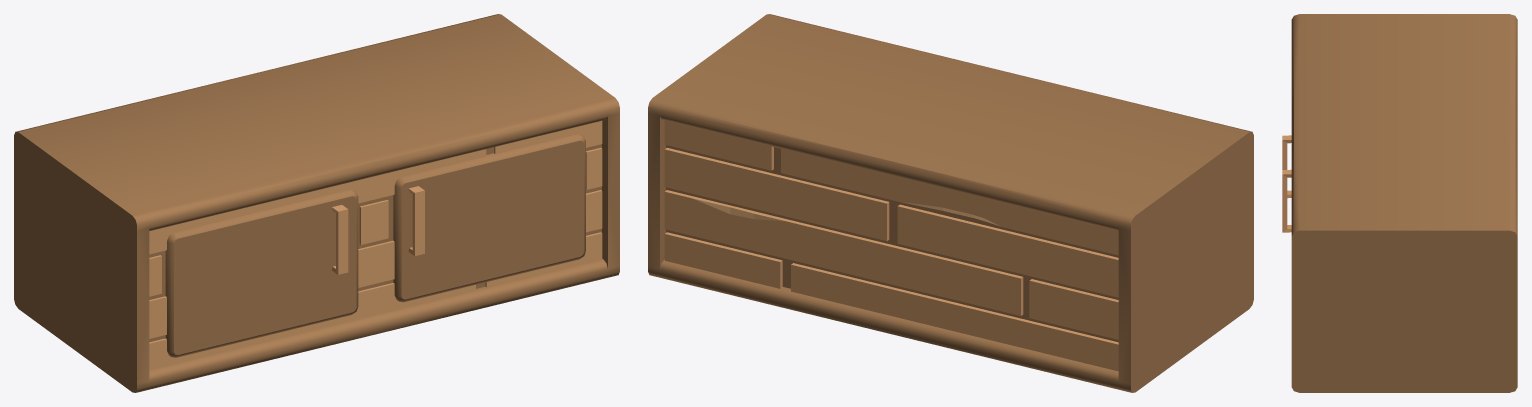
The model's file is cabinet_doors.glb.
The picture shows the model from 3 angles, left to right: view 1: azimuth 30°, elevation 25°; view 2: azimuth 150°, elevation 25°; view 3: azimuth 270°, elevation 25°; orthographic projection. The views are drawn at different scales.
Visible parts, largest first — view 1: Environment_Cabinet_Doors; view 2: Environment_Cabinet_Doors; view 3: Environment_Cabinet_Doors.
Part boxes in pixels (bbox=[...]): Environment_Cabinet_Doors: bbox=[14, 14, 619, 392]; Environment_Cabinet_Doors: bbox=[648, 14, 1253, 392]; Environment_Cabinet_Doors: bbox=[1282, 14, 1517, 392].
Bounding box in the file's own units: 4 × 1.4 × 1.84.
Materials: 1 (1 with a texture image).
